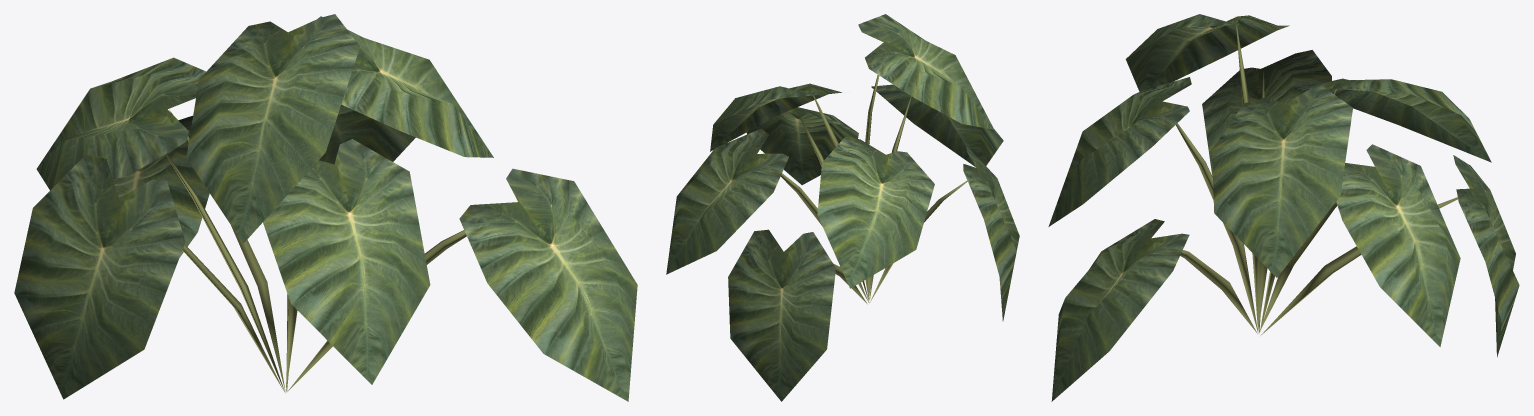
The model's file is ear_plant.FBX.
The picture shows the model from 3 angles, left to right: view 1: azimuth 30°, elevation 25°; view 2: azimuth 150°, elevation 25°; view 3: azimuth 270°, elevation 25°; orthographic projection. The views are drawn at different scales.
Parts seen in each view (by area): view 1: veg_elephantEar; view 2: veg_elephantEar; view 3: veg_elephantEar.
Boxes of the visible parts, left/top/right/bottom form: veg_elephantEar: left=14, top=14, right=637, bottom=401; veg_elephantEar: left=666, top=14, right=1019, bottom=401; veg_elephantEar: left=1048, top=14, right=1519, bottom=401.
Size of the model in its own units: 75.59 by 61.26 by 74.21.
